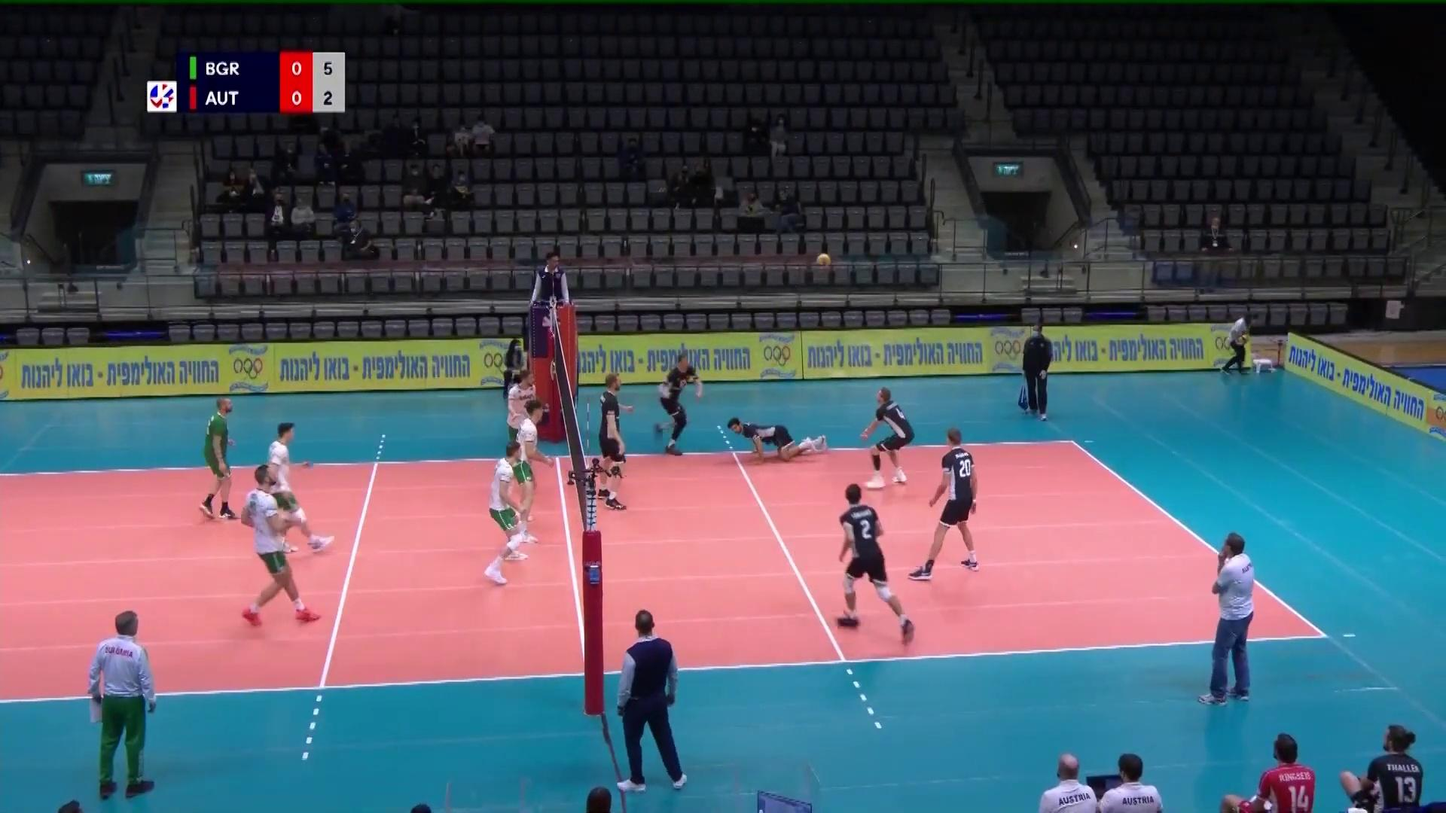ball: (816, 254, 832, 267)
